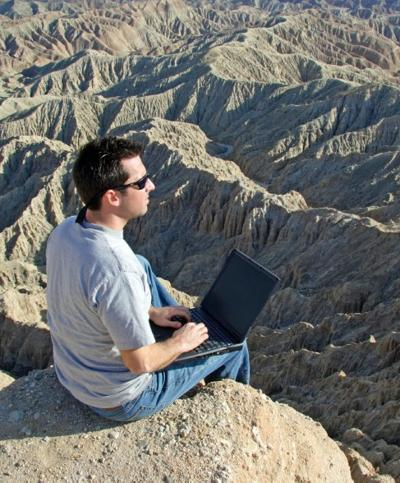person: (45, 136, 251, 425)
